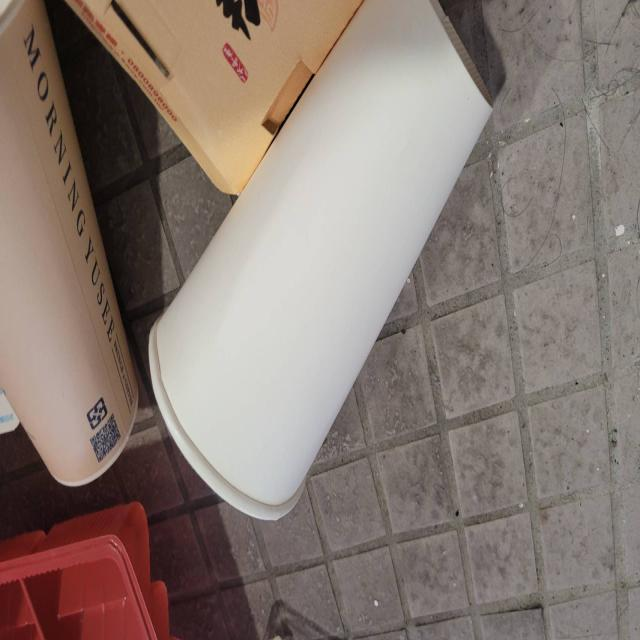Paper bowl: (146, 0, 496, 529), (62, 1, 390, 215), (0, 0, 142, 492)
Plastic: (0, 486, 190, 640)
